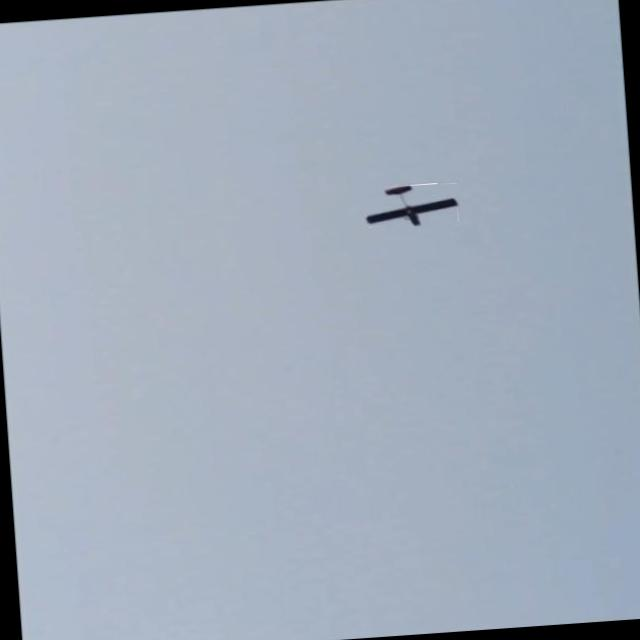UAV: (346, 120, 460, 240)
